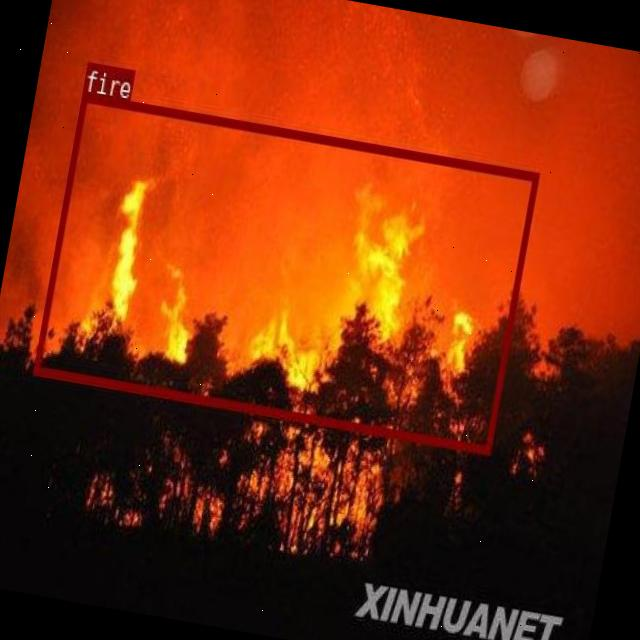fire: (31, 90, 538, 453)
